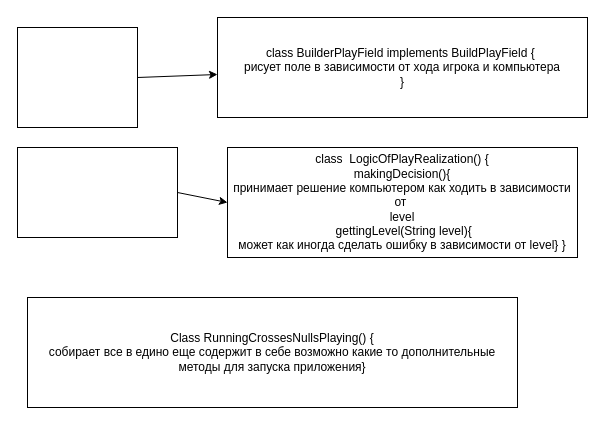
This 605x425 diagram has some shape labels left out. The shapes that lost their labels are listed below. From the top down, each one's centre as x and y in pixels, then its label:
the point at 77,77: interface BuildPlayField { void buildPlayField()}
the point at 97,192: interface LogicOfPlay{ makingDecision(); gettingLevel(String level); }
